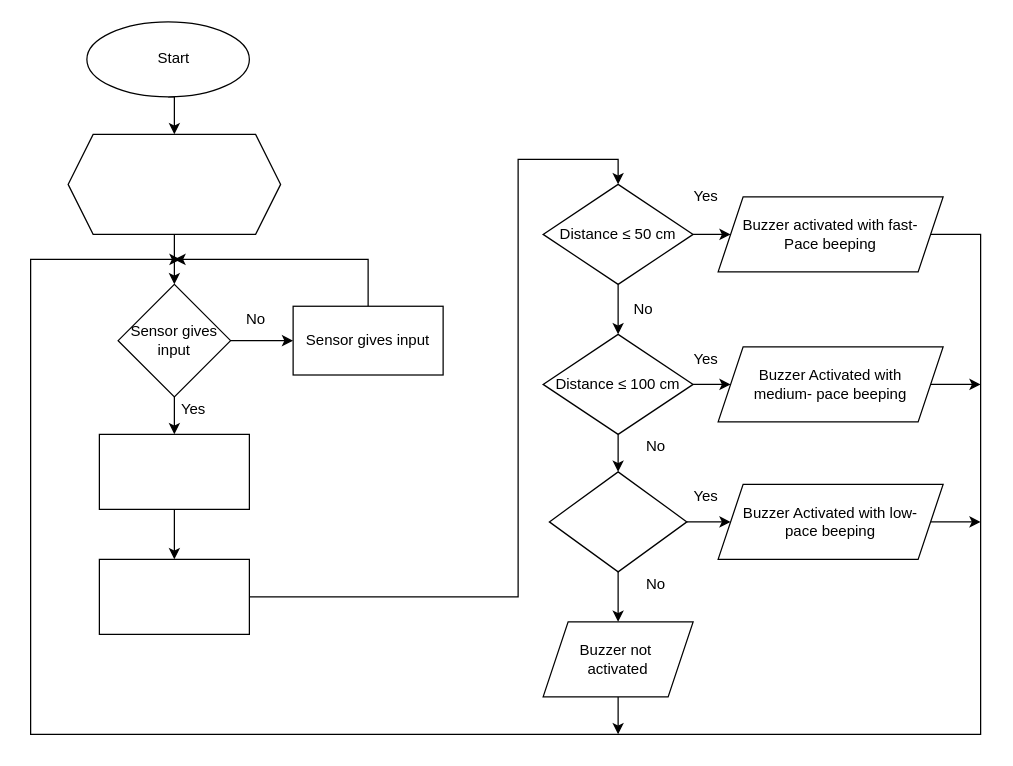
This 1013x766 diagram has some shape labels left out. The shapes that lost their labels are listed below. From the top down, each one's centre as x and y in pixels, then its label:
At point (174, 183): "I/O PORT, Timer/ Counter, Buzzer, Ultrasonic Sensor, Variable Initialization".
At point (173, 471): "Timer starts counting the input time duration".
At point (617, 521): "Distance ≤ 150 cm".
At point (173, 596): "Calculating the distance when time duration obtained".
